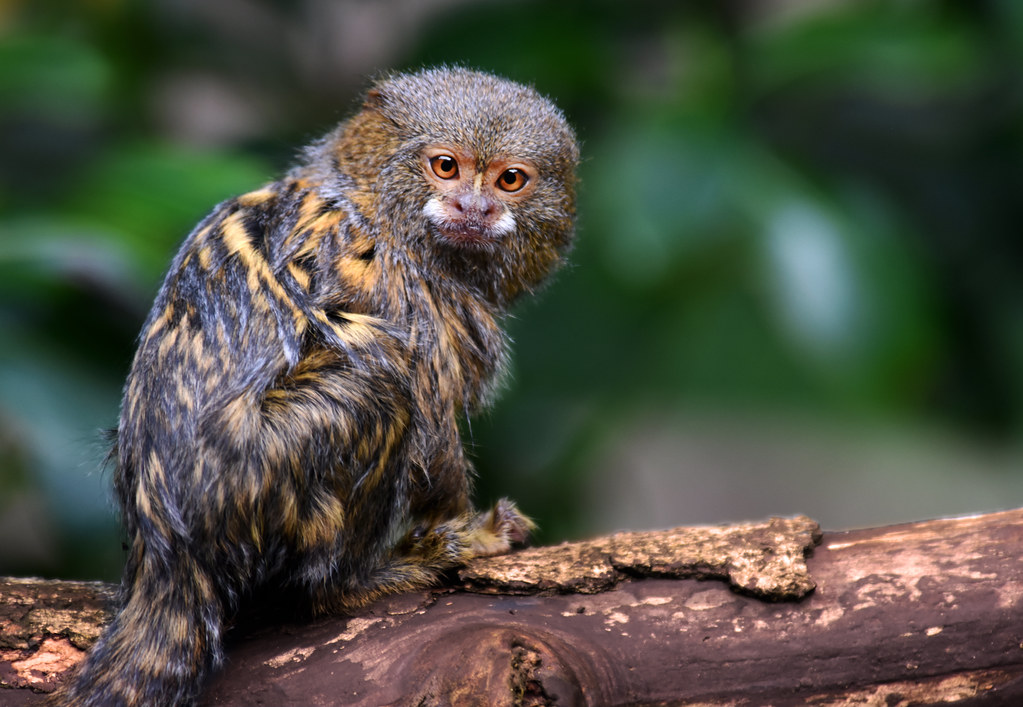PygmyMarmoset: (84, 80, 602, 593)
